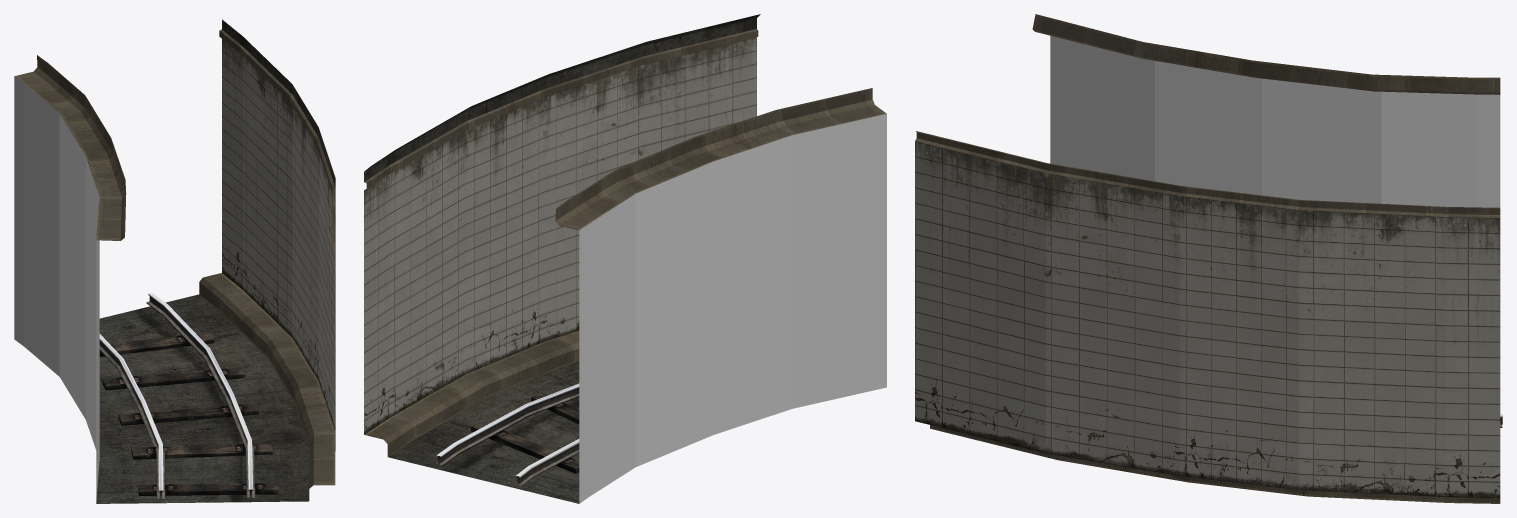
Rendered from TunnelC.fbx.
3 views of the same model, side by side, from view 1: azimuth 30°, elevation 25°; view 2: azimuth 150°, elevation 25°; view 3: azimuth 270°, elevation 25° (orthographic). The views are drawn at different scales.
Parts seen in each view (by area): view 1: TunnelC; view 2: TunnelC; view 3: TunnelC.
Boxes of the visible parts, box(x1,y1,x2,y2) form: TunnelC: box(14, 19, 335, 503); TunnelC: box(364, 14, 886, 503); TunnelC: box(915, 14, 1502, 503).
Size of the model in its own units: 648 by 559 by 882.
